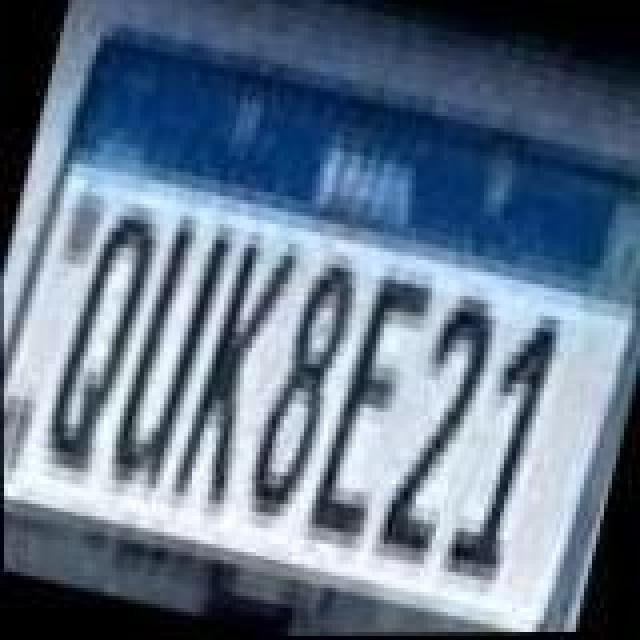1: (438, 304, 566, 588)
2: (368, 286, 500, 566)
8: (232, 246, 364, 538)
E: (300, 266, 440, 558)
K: (166, 232, 302, 524)
Q: (32, 198, 164, 486)
U: (100, 206, 240, 510)
